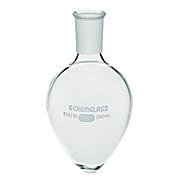Pear shaped flask: (43, 8, 130, 175)
